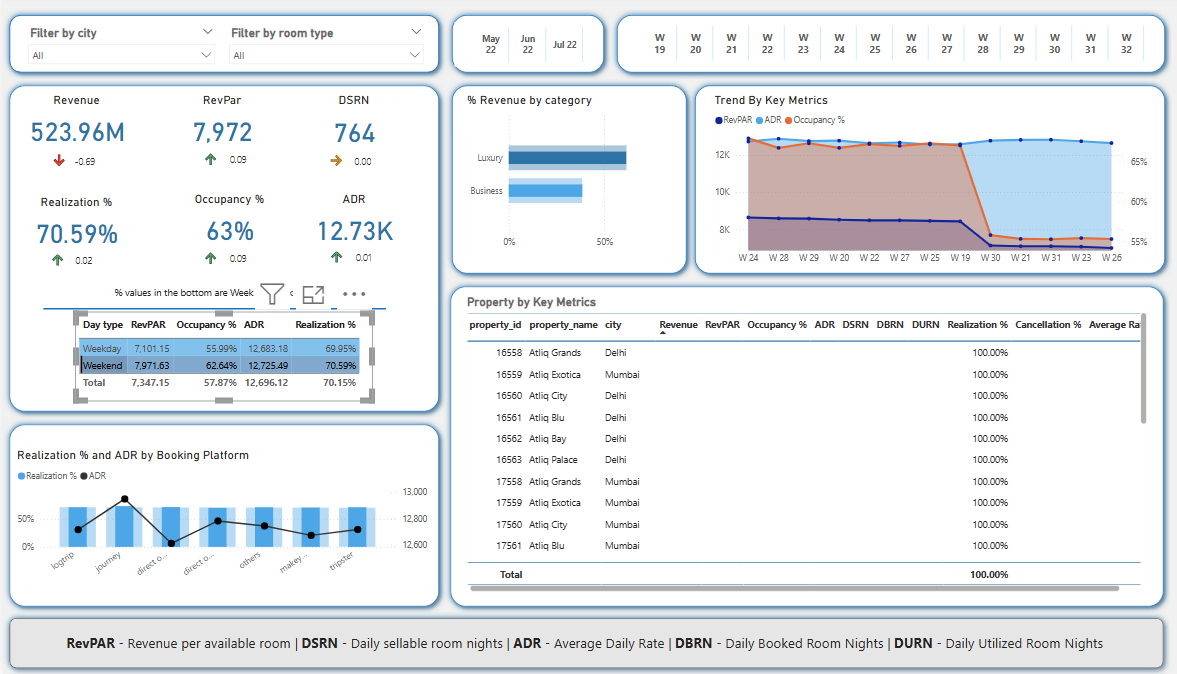

This screenshot's page, from the dashboard's own definition file:
{"tool":"powerbi","page":{"name":"Page 1","canvas":[1650,950],"ordinal":0},"visuals":[{"type":"shape","box":[0,18.9,619.1,98.6],"z":0},{"type":"shape","box":[850,18.9,784.9,98.6],"z":1000},{"type":"shape","box":[619.1,18.9,230.9,98.6],"z":2000},{"type":"shape","box":[959.1,117.5,675.8,281.2],"z":3000},{"type":"shape","box":[619.1,117.5,346.3,281.2],"z":4000},{"type":"shape","box":[617,398.8,1015.8,465.9],"z":5000},{"type":"shape","box":[0,591.8,619.1,272.8],"z":6000},{"type":"shape","box":[0,117.5,619.1,474.3],"z":7000},{"type":"tableEx","title":"Revenue","fields":{"Values":["key_measures.ADR WoW change %"]},"box":[447,327.4,88.1,60.9],"z":8000},{"type":"tableEx","title":"Revenue","fields":{"Values":["key_measures.Occupancy WoW change %"]},"box":[270.7,329.5,90.2,58.8],"z":9000},{"type":"tableEx","title":"Revenue","fields":{"Values":["key_measures.Realisation WoW change %"]},"box":[56.7,331.6,88.1,60.9],"z":10000},{"type":"tableEx","title":"Revenue","fields":{"Values":["key_measures.DSRN WoW change %"]},"box":[447,193.1,88.1,58.8],"z":11000},{"type":"tableEx","title":"Revenue","fields":{"Values":["key_measures.Revenue WoW change %"]},"box":[58.8,193.1,90.2,58.8],"z":12000},{"type":"tableEx","title":"Property by Key Metrics","fields":{"Values":["dim_hotels.property_id","dim_hotels.property_name","dim_hotels.city","key_measures.Revenue","key_measures.RevPAR","key_measures.Occupancy %","key_measures.ADR","key_measures.DSRN","key_measures.DBRN","key_measures.DURN","key_measures.Realization %","key_measures.Cancellation %"]},"box":[644.3,419.7,961.2,419.7],"z":13000},{"type":"slicer","fields":{"Values":["dim_hotels.city"]},"box":[25.2,37.8,281.2,63],"z":14000},{"type":"slicer","fields":{"Values":["dim_rooms.room_class"]},"box":[306.4,37.8,291.7,63],"z":15000},{"type":"slicer","fields":{"Values":["dim_date.mmm yy"]},"box":[631.7,37.8,203.6,63],"z":16000},{"type":"slicer","fields":{"Values":["dim_date.week no"]},"box":[868.9,35.7,751.3,63],"z":17000},{"type":"card","title":"Revenue","fields":{"Values":["key_measures.Revenue"]},"box":[25.2,136.4,155.3,83.9],"z":18000},{"type":"donutChart","title":"% Revenue by category","fields":{"Category":["dim_hotels.category"],"Y":["key_measures.Revenue"]},"box":[644.3,136.4,293.8,226.7],"z":19000},{"type":"tableEx","title":"Revenue","fields":{"Values":["key_measures.Revpar WoW change %"]},"box":[270.7,191,90.2,58.8],"z":20000},{"type":"card","title":"DSRN","fields":{"Values":["key_measures.DSRN"]},"box":[413.4,136.4,155.3,86],"z":21000},{"type":"card","title":"RevPar","fields":{"Values":["key_measures.RevPAR"]},"box":[228.8,136.4,155.3,83.9],"z":22000},{"type":"card","title":"Occupancy %","fields":{"Values":["key_measures.Occupancy %"]},"box":[239.3,274.9,155.3,83.9],"z":23000},{"type":"card","title":"ADR","fields":{"Values":["key_measures.ADR"]},"box":[413.4,274.9,155.3,83.9],"z":24000},{"type":"card","title":"Realization %","fields":{"Values":["key_measures.Realization %"]},"box":[25.2,279.1,155.3,83.9],"z":25000},{"type":"lineChart","title":"Trend By Key Metrics","fields":{"Category":["dim_date.mmm yy.Variation.Date Hierarchy.Month","dim_date.week no"],"Y":["key_measures.RevPAR","key_measures.ADR"],"Y2":["key_measures.Occupancy %"]},"box":[990.6,136.4,614.9,249.7],"z":26000},{"type":"lineClusteredColumnComboChart","title":"Realization % and ADR by Booking Platform","fields":{"Category":["fact_bookings.booking_platform"],"Y":["key_measures.Realization %"],"Y2":["key_measures.ADR"]},"box":[14.7,633.8,583.4,191],"z":27000},{"type":"tableEx","fields":{"Values":["dim_date.day_type","key_measures.RevPAR","key_measures.Occupancy %","key_measures.ADR","key_measures.Realization %"]},"box":[100.7,442.8,417.6,125.9],"z":28000},{"type":"shape","box":[0,862.8,1632.6,88.4],"z":29000},{"type":"textbox","box":[83.7,888.4,1483.7,39.5],"z":30000},{"type":"shape","box":[55.8,402.3,479.1,72.1],"z":31000},{"type":"textbox","box":[151.2,400,314,34.9],"z":31001}]}

Visuals, with their boxes in screenshot pixels (x1, y1, x2, y2), scaled from the page's 1650x950 canvas onto the 1177x674 screenshot:
shape: crop(0, 13, 442, 83)
shape: crop(606, 13, 1166, 83)
shape: crop(442, 13, 606, 83)
shape: crop(684, 83, 1166, 283)
shape: crop(442, 83, 689, 283)
shape: crop(440, 283, 1165, 613)
shape: crop(0, 420, 442, 613)
shape: crop(0, 83, 442, 420)
"Revenue" tableEx: crop(319, 232, 382, 275)
"Revenue" tableEx: crop(193, 234, 257, 275)
"Revenue" tableEx: crop(40, 235, 103, 278)
"Revenue" tableEx: crop(319, 137, 382, 179)
"Revenue" tableEx: crop(42, 137, 106, 179)
"Property by Key Metrics" tableEx: crop(460, 298, 1145, 596)
slicer - dim_hotels.city: crop(18, 27, 219, 72)
slicer - dim_rooms.room_class: crop(219, 27, 427, 72)
slicer - dim_date.mmm yy: crop(451, 27, 596, 72)
slicer - dim_date.week no: crop(620, 25, 1156, 70)
"Revenue" card: crop(18, 97, 129, 156)
"% Revenue by category" donutChart: crop(460, 97, 669, 258)
"Revenue" tableEx: crop(193, 136, 257, 177)
"DSRN" card: crop(295, 97, 406, 158)
"RevPar" card: crop(163, 97, 274, 156)
"Occupancy %" card: crop(171, 195, 281, 255)
"ADR" card: crop(295, 195, 406, 255)
"Realization %" card: crop(18, 198, 129, 258)
"Trend By Key Metrics" lineChart: crop(707, 97, 1145, 274)
"Realization % and ADR by Booking Platform" lineClusteredColumnComboChart: crop(10, 450, 427, 585)
tableEx - dim_date.day_type x key_measures.RevPAR: crop(72, 314, 370, 403)
shape: crop(0, 612, 1165, 673)
textbox: crop(60, 630, 1118, 658)
shape: crop(40, 285, 382, 337)
textbox: crop(108, 284, 332, 309)
